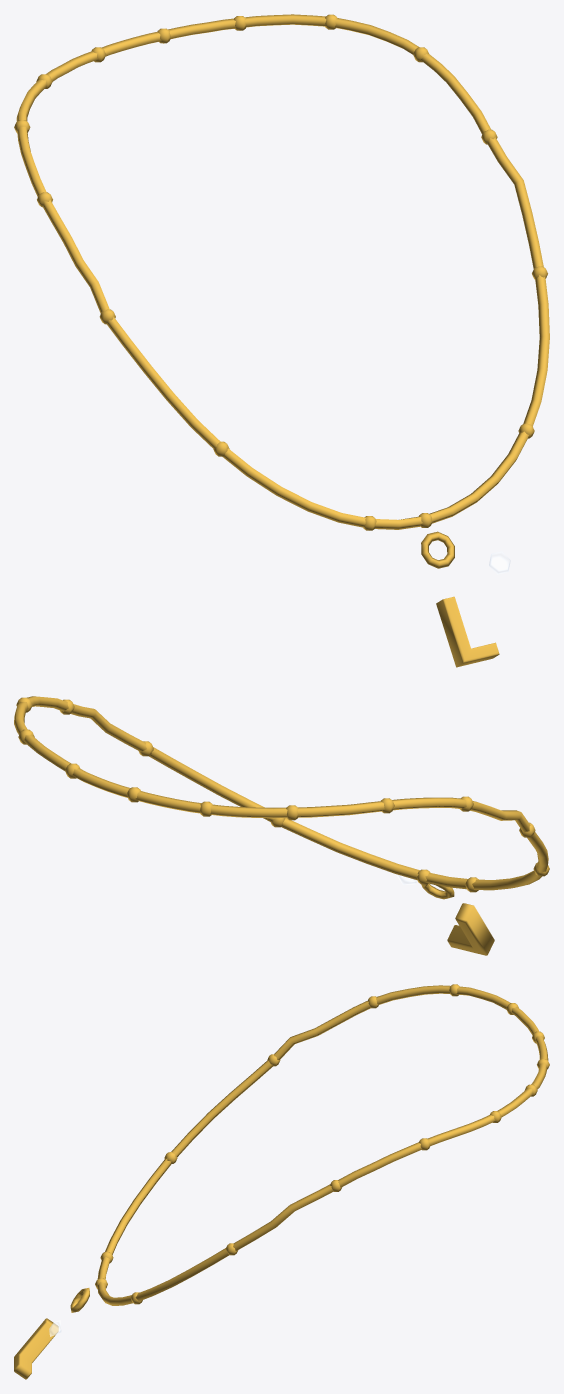
The model's file is initial_necklace_l.glb.
3 renders of one model, top to bottom at view 1: azimuth 30°, elevation 25°; view 2: azimuth 150°, elevation 25°; view 3: azimuth 270°, elevation 25°, orthographic. The views are drawn at different scales.
Visible parts, largest first — view 1: initial_necklace_l; view 2: initial_necklace_l; view 3: initial_necklace_l.
Boxes of the visible parts, box(x1,y1,x2,y2) form: initial_necklace_l: box(14, 14, 549, 667); initial_necklace_l: box(14, 696, 549, 955); initial_necklace_l: box(14, 984, 549, 1379).
Bounding box in the file's own units: 0.0912 × 0.0799 × 0.1213.
